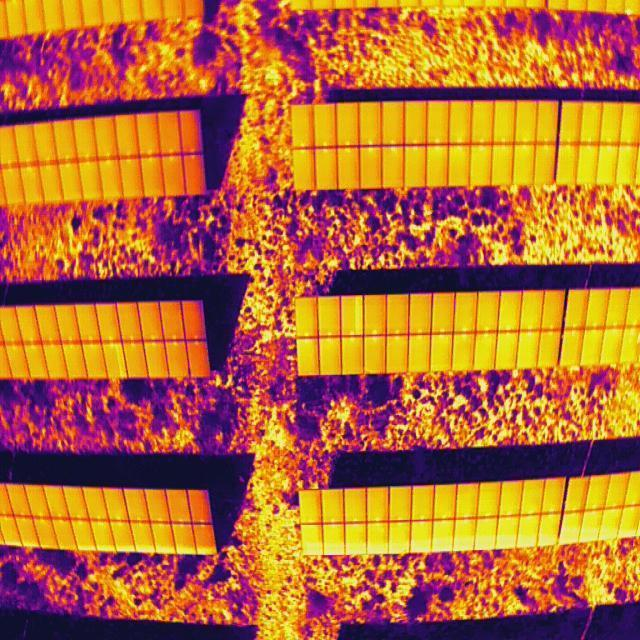panel: (474, 291, 502, 334), (497, 290, 525, 333), (518, 290, 546, 333), (541, 290, 569, 333), (312, 102, 338, 148), (336, 103, 362, 149), (358, 101, 384, 147), (379, 101, 405, 147), (402, 101, 428, 147), (425, 98, 451, 144), (449, 98, 475, 144), (470, 98, 496, 144), (492, 99, 518, 145), (513, 99, 539, 145), (535, 99, 561, 145), (490, 143, 516, 188), (511, 143, 537, 188), (533, 142, 559, 187), (290, 103, 315, 149), (313, 147, 339, 191), (336, 145, 362, 189), (518, 478, 547, 516), (408, 293, 434, 335), (430, 293, 456, 335), (453, 291, 479, 333), (358, 146, 383, 189), (382, 146, 407, 189), (403, 145, 428, 188), (426, 144, 451, 187), (446, 144, 471, 187), (469, 144, 494, 187), (497, 479, 525, 517), (427, 333, 454, 372), (291, 148, 316, 190), (428, 332, 454, 372), (493, 331, 519, 371), (516, 330, 542, 370), (294, 297, 319, 338), (317, 296, 342, 337), (340, 296, 365, 337), (362, 295, 387, 336), (386, 295, 411, 336), (537, 331, 562, 371), (296, 337, 320, 378), (318, 337, 342, 378), (340, 335, 364, 376), (363, 336, 387, 377), (386, 335, 410, 376), (408, 335, 432, 376), (432, 484, 458, 521), (454, 482, 480, 519), (477, 481, 503, 518), (452, 332, 476, 371), (473, 331, 497, 370), (540, 477, 566, 513), (298, 488, 323, 525), (321, 488, 346, 525), (343, 487, 368, 524), (365, 486, 390, 523), (388, 484, 413, 521), (411, 484, 436, 521)
